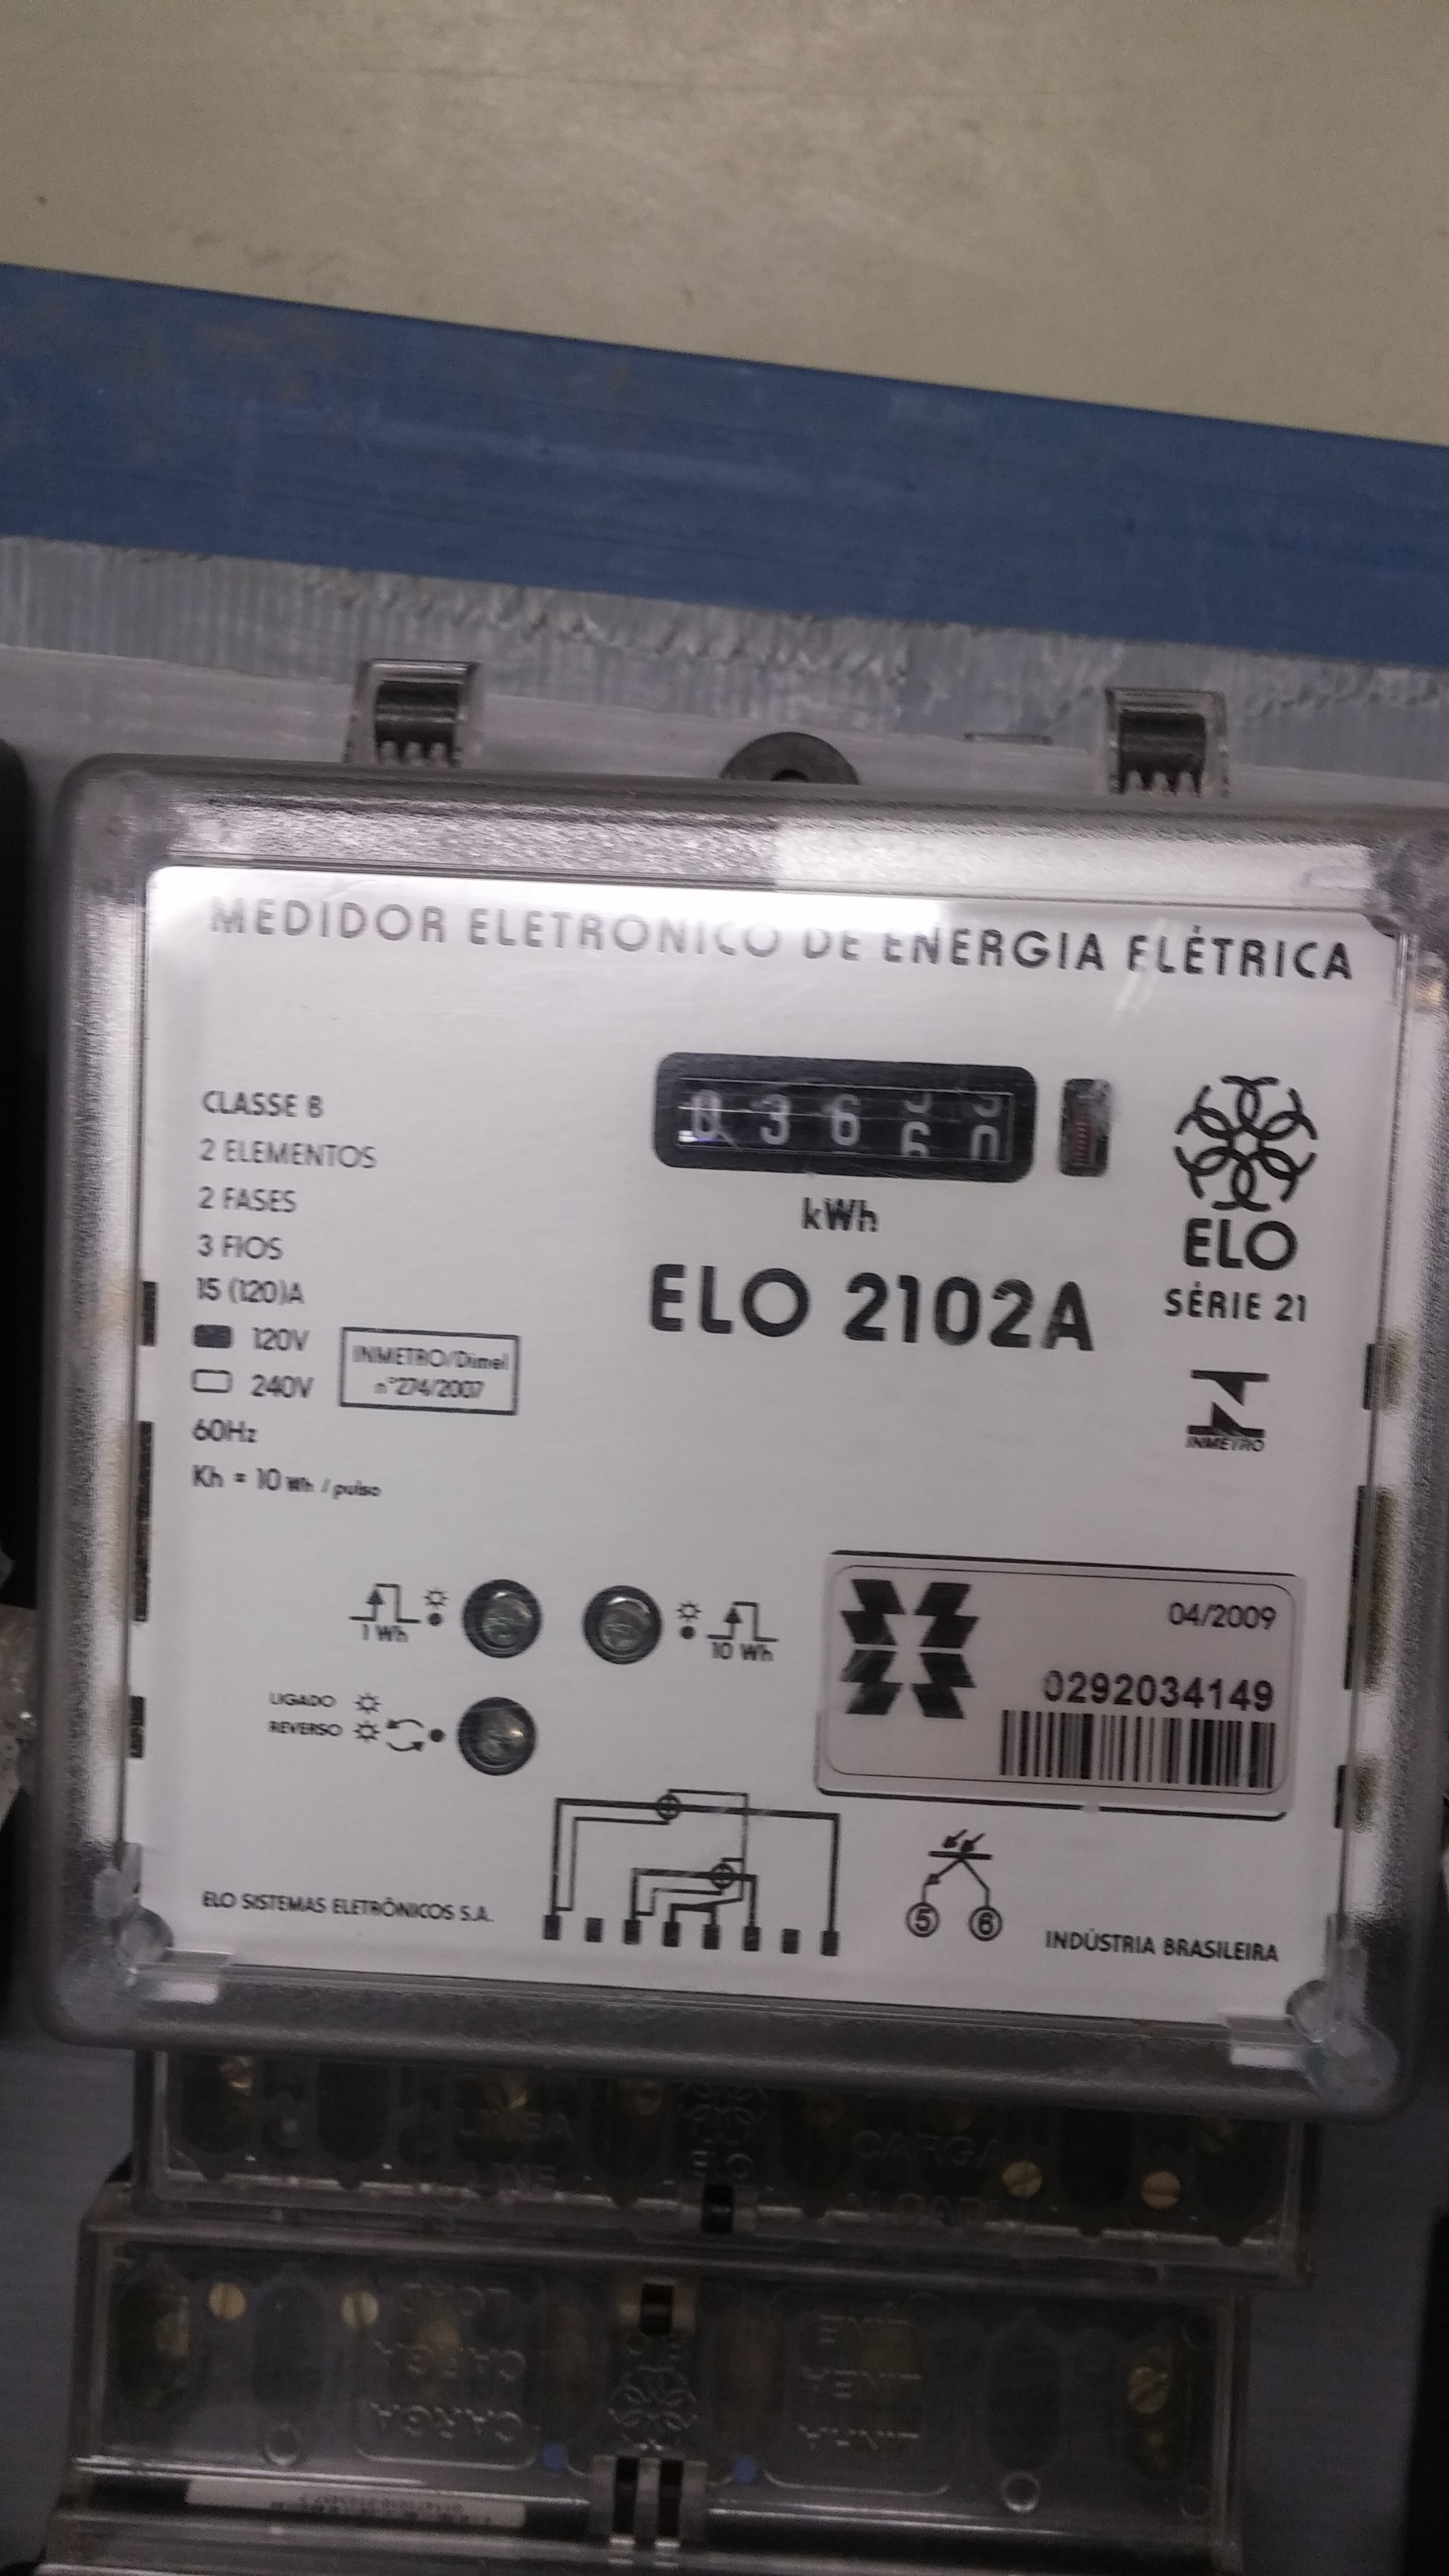counter2: (649, 1042, 1054, 1201)
